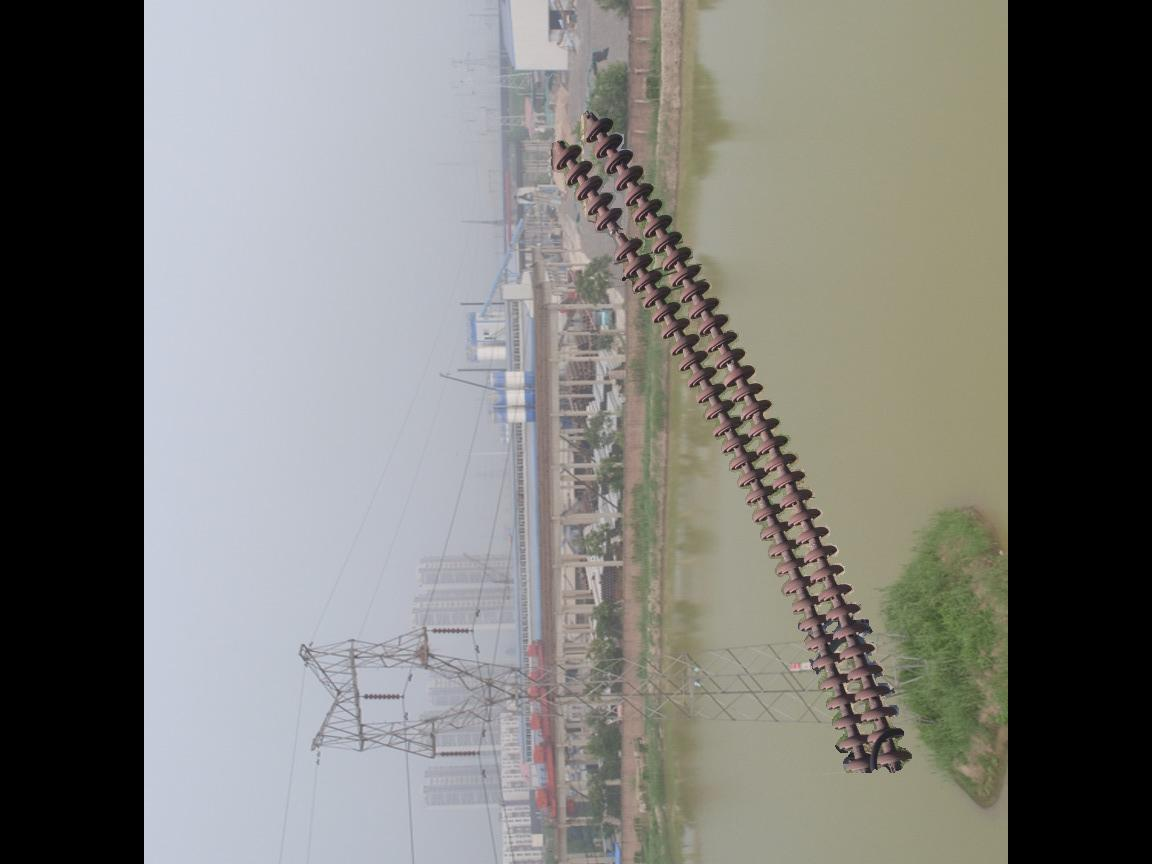insulator: (546, 112, 916, 780), (432, 747, 484, 762), (427, 623, 474, 639), (360, 689, 402, 704)
insulator_stringdrop: (594, 203, 646, 267)
